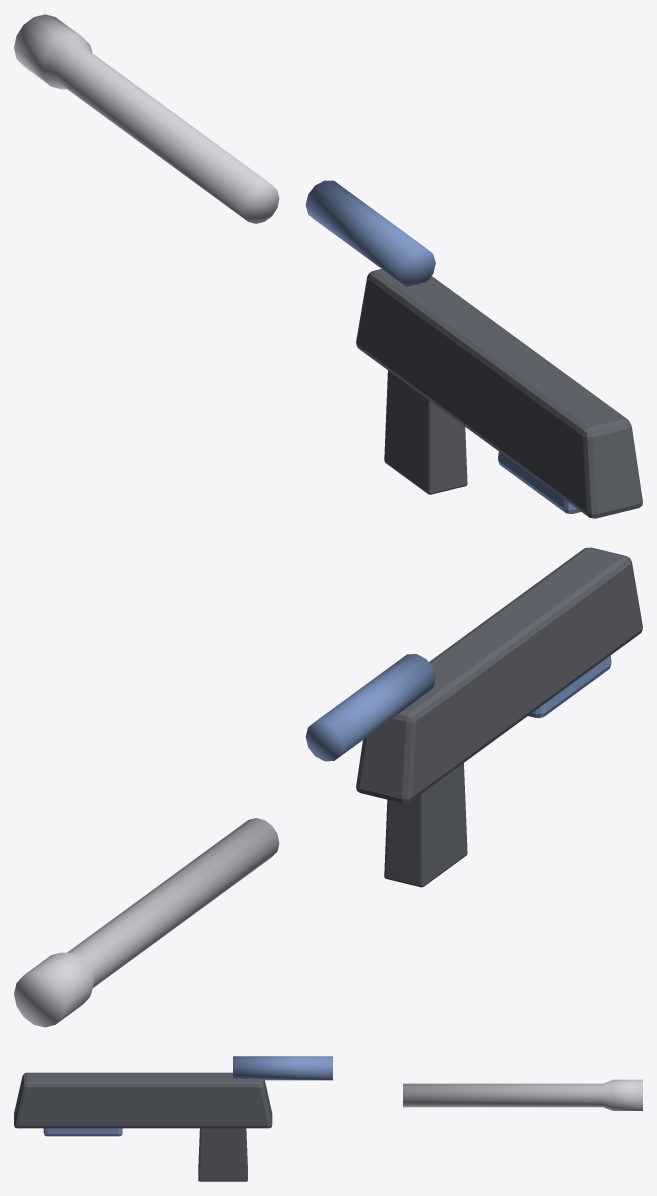
Rendered from weapon_rifle_live.glb.
3 views of the same model, one above another, from view 1: azimuth 30°, elevation 25°; view 2: azimuth 150°, elevation 25°; view 3: azimuth 270°, elevation 25° (orthographic). The views are drawn at different scales.
Parts seen in each view (by area): view 1: body, barrel, magazine, scope, stock; view 2: body, barrel, magazine, scope, stock; view 3: body, barrel, magazine, scope, stock.
Boxes of the visible parts, left/top/right/bottom form: body: left=356, top=269, right=642, bottom=518; barrel: left=14, top=14, right=279, bottom=223; magazine: left=384, top=370, right=467, bottom=494; scope: left=305, top=180, right=435, bottom=286; stock: left=498, top=451, right=580, bottom=513; body: left=356, top=547, right=642, bottom=803; barrel: left=14, top=818, right=279, bottom=1027; magazine: left=384, top=763, right=467, bottom=887; scope: left=305, top=654, right=435, bottom=761; stock: left=528, top=655, right=611, bottom=718; body: left=14, top=1072, right=272, bottom=1128; barrel: left=403, top=1079, right=642, bottom=1110; magazine: left=198, top=1128, right=247, bottom=1181; scope: left=233, top=1056, right=332, bottom=1080; stock: left=43, top=1128, right=122, bottom=1136.
Size of the model in its own units: 0.5882 by 2.24 by 10.7.
